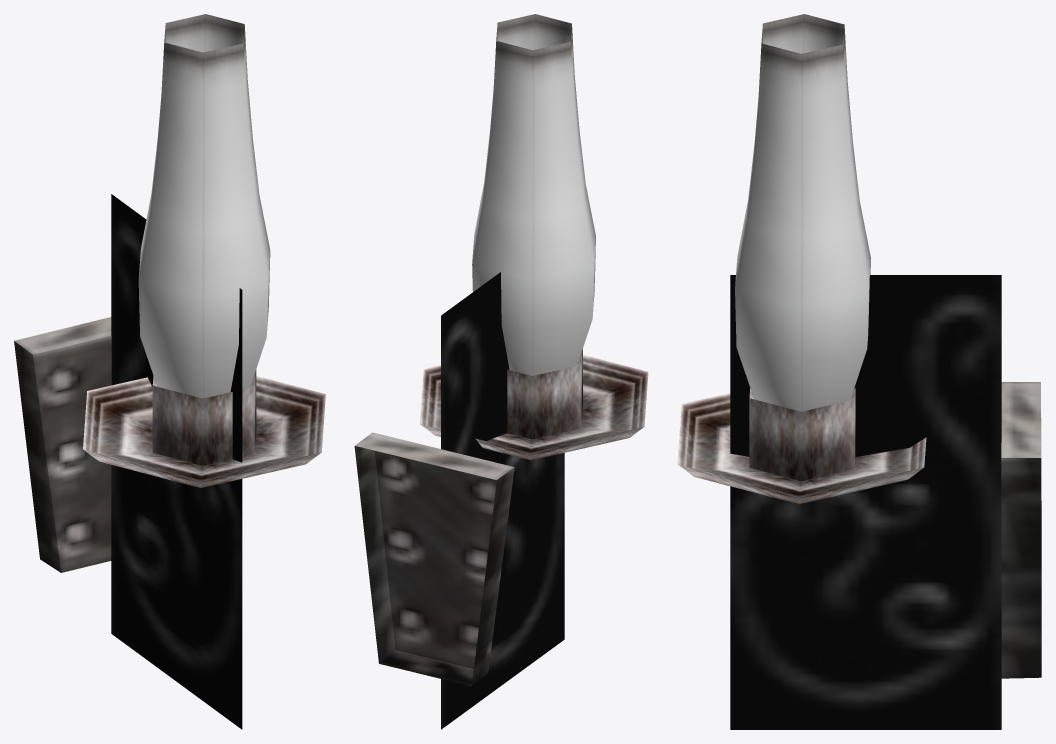
Rendered from lamp_wall_hurricane_candle.fbx.
The picture shows the model from 3 angles, left to right: view 1: azimuth 30°, elevation 25°; view 2: azimuth 150°, elevation 25°; view 3: azimuth 270°, elevation 25°; orthographic projection. The views are drawn at different scales.
Parts seen in each view (by area): view 1: lamp_glass, hurricaneLampWallSupport2, hurricaneLampWallBase1, polySurface2, polySurface1, lamp_glass2; view 2: lamp_glass, hurricaneLampWallBase1, hurricaneLampWallSupport2, polySurface2, polySurface1, lamp_glass2; view 3: hurricaneLampWallSupport2, lamp_glass, hurricaneLampWallBase1, polySurface2, polySurface1, lamp_glass2.
Boxes of the visible parts, <box> form: lamp_glass: <box>138,26,270,398</box>; hurricaneLampWallSupport2: <box>111,194,242,729</box>; hurricaneLampWallBase1: <box>14,317,111,572</box>; polySurface2: <box>83,376,325,487</box>; polySurface1: <box>152,370,256,465</box>; lamp_glass2: <box>164,14,244,52</box>; lamp_glass: <box>472,25,595,375</box>; hurricaneLampWallBase1: <box>354,432,514,686</box>; hurricaneLampWallSupport2: <box>441,272,564,729</box>; polySurface2: <box>419,355,648,460</box>; polySurface1: <box>507,349,582,439</box>; lamp_glass2: <box>496,14,571,50</box>; hurricaneLampWallSupport2: <box>730,275,1001,729</box>; lamp_glass: <box>735,26,870,411</box>; hurricaneLampWallBase1: <box>1001,382,1041,678</box>; polySurface2: <box>677,393,926,504</box>; polySurface1: <box>749,387,855,481</box>; lamp_glass2: <box>761,14,844,53</box>.
Size of the model in its own units: 94.19 by 253 by 120.
2 materials, 2 textured.
